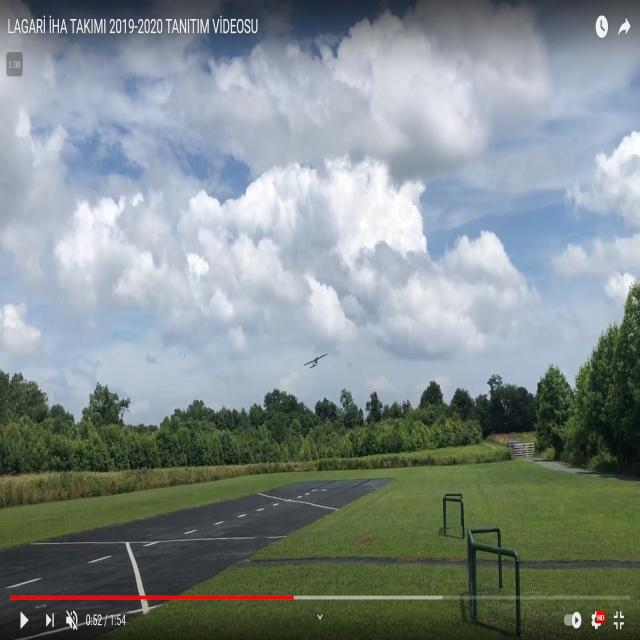iha: (303, 352, 328, 370)
